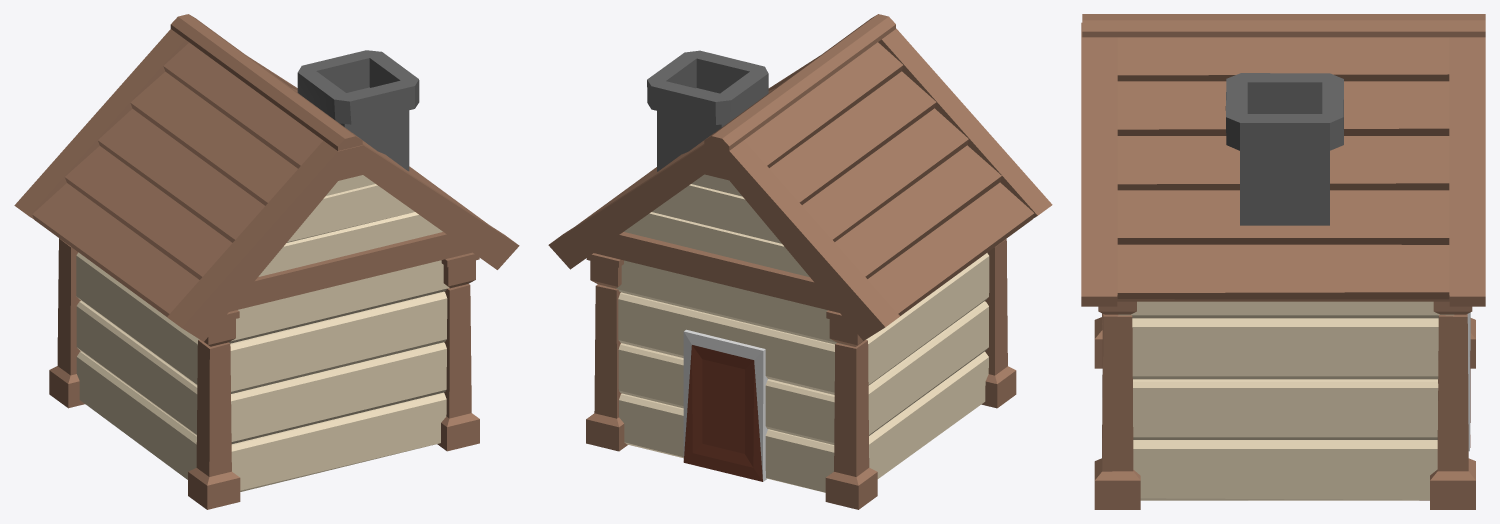
The model's file is WoodenHouse.fbx.
3 views of the same model, side by side, from view 1: azimuth 30°, elevation 25°; view 2: azimuth 150°, elevation 25°; view 3: azimuth 270°, elevation 25° (orthographic). The views are drawn at different scales.
Parts seen in each view (by area): view 1: Roof; view 2: Roof; view 3: Roof.
Boxes of the visible parts, bbox=[...] form: Roof: bbox=[14, 14, 519, 509]; Roof: bbox=[548, 14, 1052, 509]; Roof: bbox=[1081, 14, 1485, 509].
Size of the model in its own units: 700 by 678 by 601.
